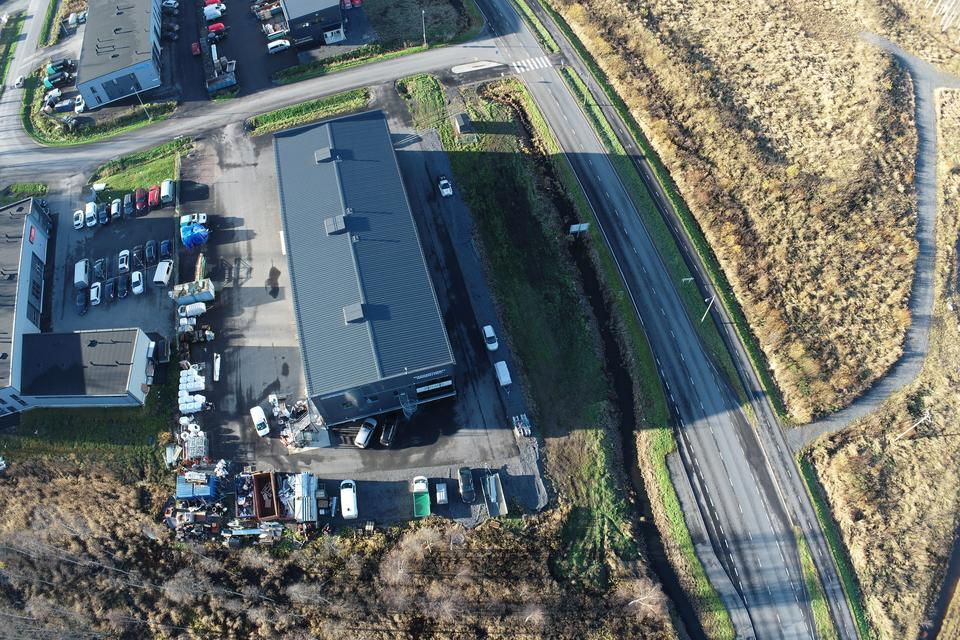intersection: (636, 391, 849, 503), (428, 12, 619, 107)
